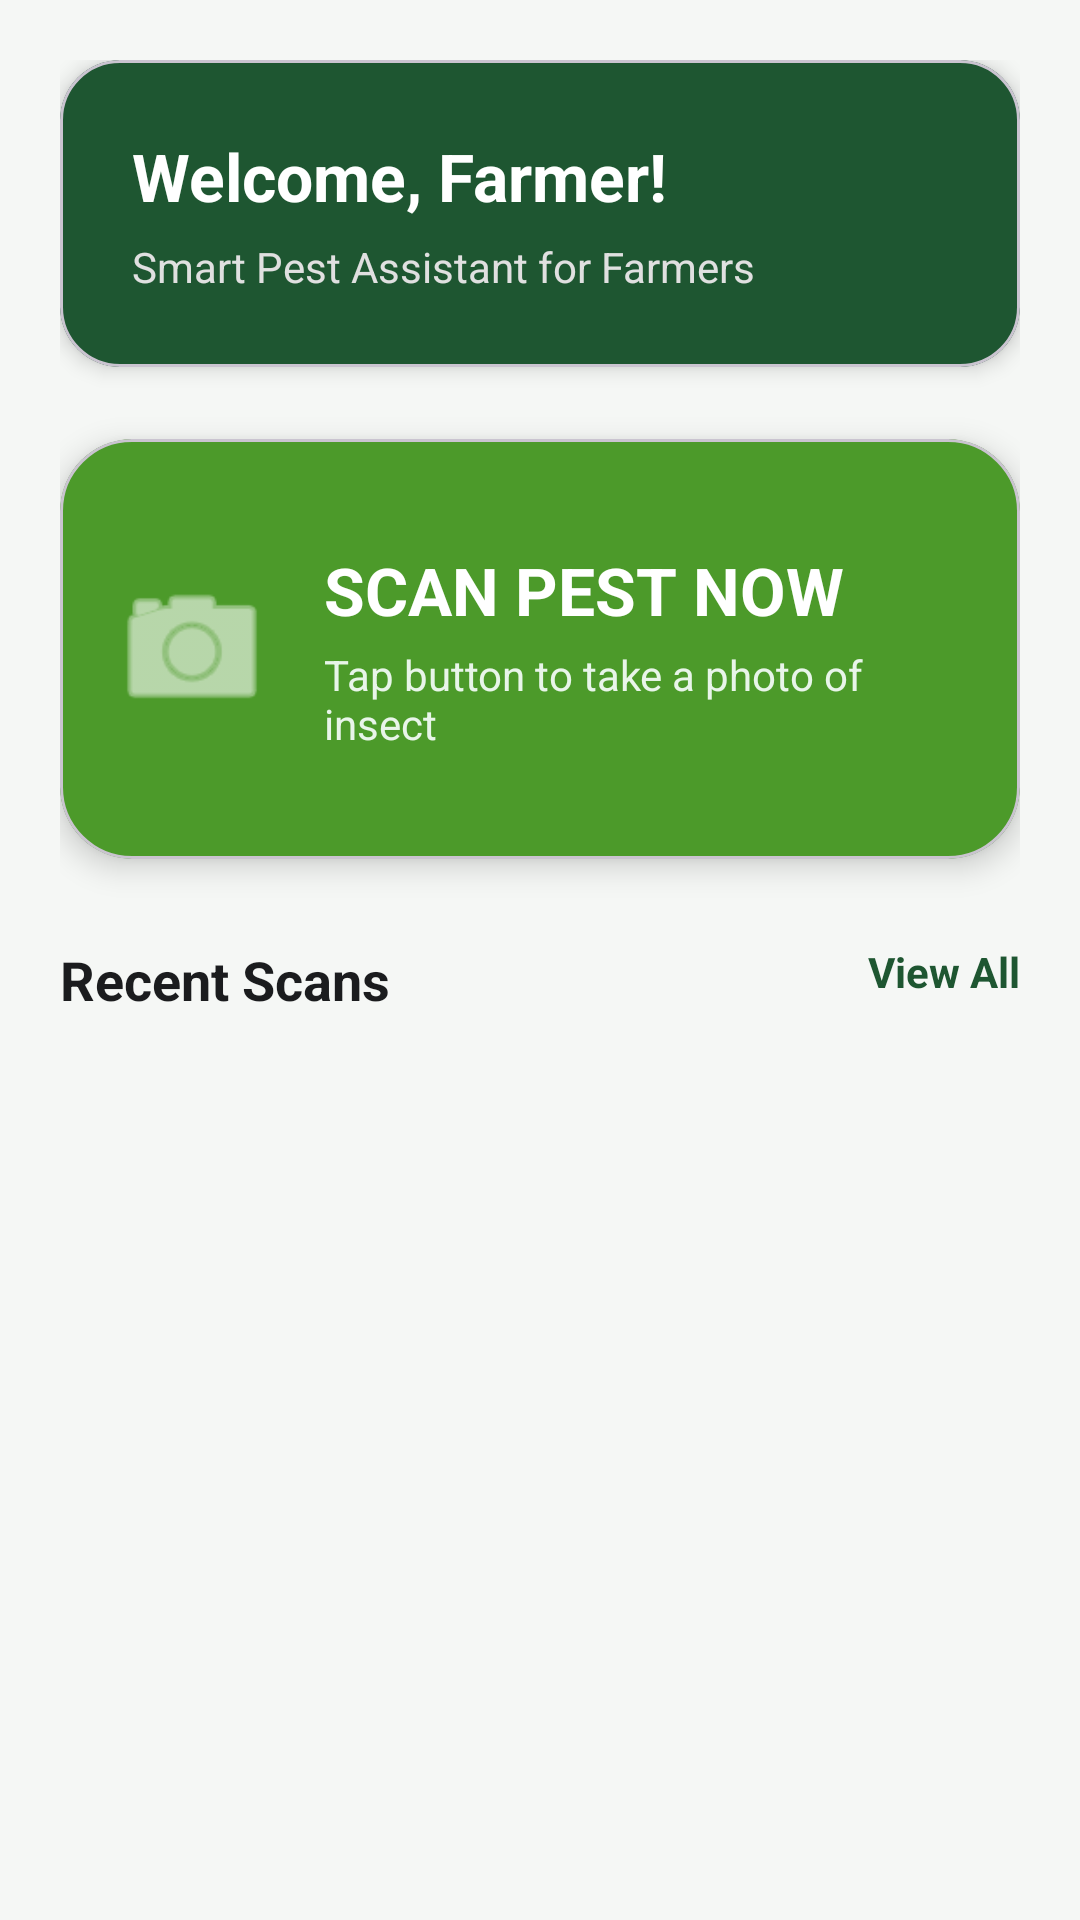

Screen size 1080x1920. Icon name, then its box in pixels as bbox=[x1, y1, x2, y2]:
camera: bbox=[127, 595, 257, 698]
